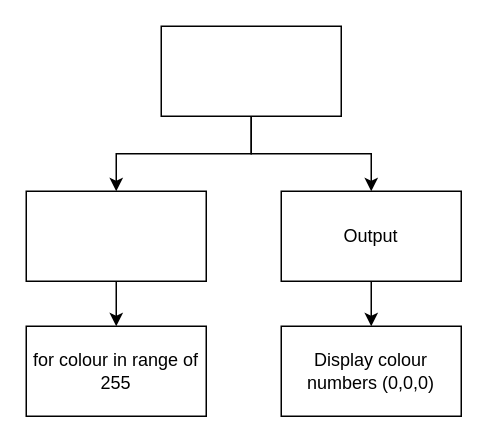
This 488x443 diagram has some shape labels left out. The shapes that lost their labels are listed below. From the top down, each one's centre as x and y in pixels, then its label:
At point 250,70: "RGB values".
At point 115,235: "Process".
